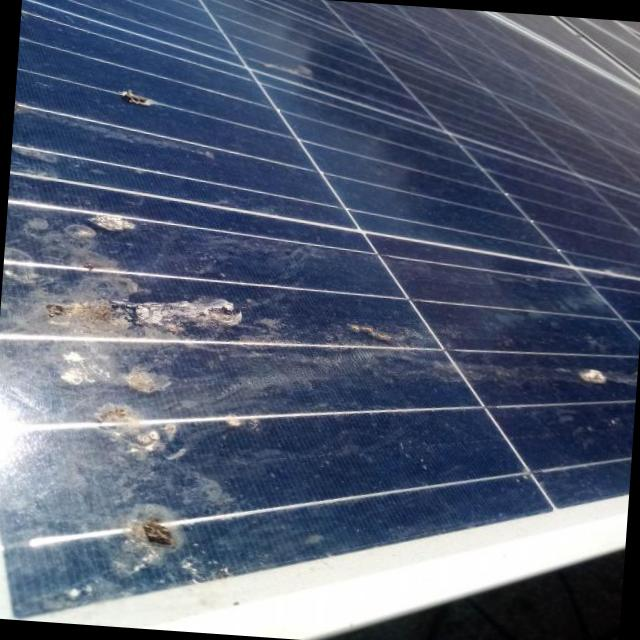faulty: (0, 60, 361, 589), (350, 263, 640, 490)
